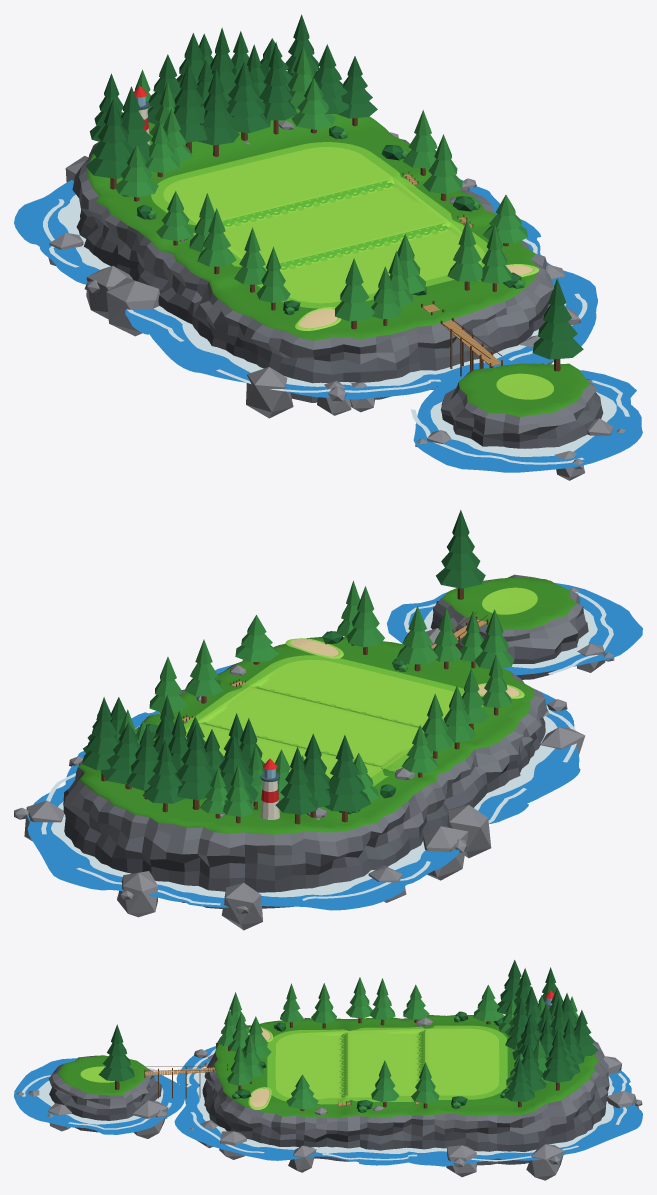
The model's file is hole_15.fbx.
3 views of the same model, one above another, from view 1: azimuth 30°, elevation 25°; view 2: azimuth 150°, elevation 25°; view 3: azimuth 270°, elevation 25° (orthographic). The views are drawn at different scales.
Parts seen in each view (by area): view 1: TREES, TERRAIN_ISLAND_2, GREEN_1, WATER_SHALLOW_2, TERRAIN_ISLAND_1, ROCKS, WATER_SHALLOW_1, GREEN_APRON_1, WATER_FOAM_2, WATER_FOAM_1, WATER_FOAM_CREST_2, BRIDGE_1 (+4 smaller); view 2: TERRAIN_ISLAND_2, TREES, GREEN_1, WATER_SHALLOW_2, ROCKS, TERRAIN_ISLAND_1, WATER_SHALLOW_1, WATER_FOAM_2, GREEN_APRON_1, WATER_FOAM_CREST_2, TEE_BOX, LIGHTHOUSE (+2 smaller); view 3: TERRAIN_ISLAND_2, TREES, GREEN_1, WATER_SHALLOW_2, ROCKS, TERRAIN_ISLAND_1, WATER_SHALLOW_1, GREEN_APRON_1, WATER_FOAM_2, WATER_FOAM_CREST_2, WATER_FOAM_1, BRIDGE_1 (+2 smaller).
Part boxes in pixels (x1,y1,x2,y2): TREES: (86,14,583,371); TERRAIN_ISLAND_2: (72,109,553,402); GREEN_1: (163,147,484,303); WATER_SHALLOW_2: (14,179,597,399); TERRAIN_ISLAND_1: (440,363,603,448); ROCKS: (48,121,625,480); WATER_SHALLOW_1: (413,370,642,472); GREEN_APRON_1: (151,142,488,308); WATER_FOAM_2: (57,194,566,386); WATER_FOAM_1: (430,392,616,456); WATER_FOAM_CREST_2: (43,199,587,392); BRIDGE_1: (421,300,502,376); TERRAIN_ISLAND_2: (63,637,547,908); TREES: (82,510,514,824); GREEN_1: (185,660,462,778); WATER_SHALLOW_2: (27,664,580,910); ROCKS: (14,587,614,930); TERRAIN_ISLAND_1: (430,574,588,679); WATER_SHALLOW_1: (387,583,642,675); WATER_FOAM_2: (51,716,557,897); GREEN_APRON_1: (183,655,482,786); WATER_FOAM_CREST_2: (41,705,576,905); TEE_BOX: (482,587,537,614); LIGHTHOUSE: (260,758,279,819); TERRAIN_ISLAND_2: (202,1015,609,1165); TREES: (98,960,598,1112); GREEN_1: (275,1028,499,1099); WATER_SHALLOW_2: (174,1046,642,1166); ROCKS: (16,1017,642,1180); TERRAIN_ISLAND_1: (49,1055,161,1132); WATER_SHALLOW_1: (14,1058,184,1134); GREEN_APRON_1: (267,1025,507,1104); WATER_FOAM_2: (193,1066,614,1155); WATER_FOAM_CREST_2: (185,1049,627,1161); WATER_FOAM_1: (37,1080,163,1124); BRIDGE_1: (144,1064,227,1103).
Size of what is drawn, in the model's own units: 156 by 68.53 by 293.
